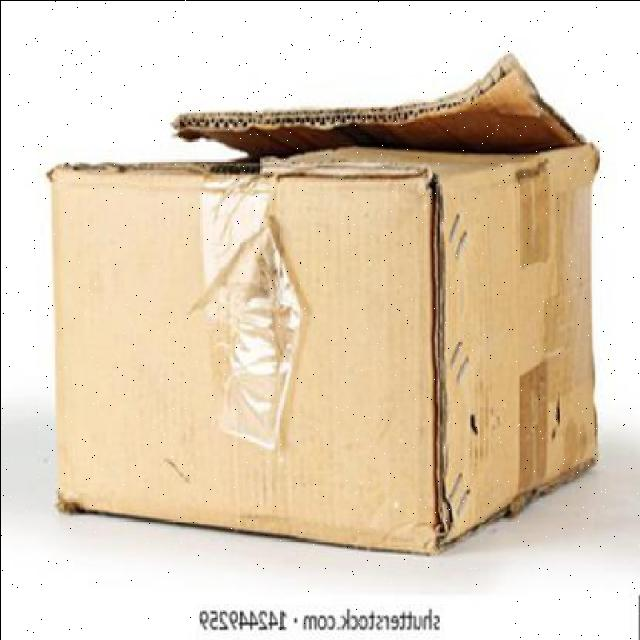defect: (46, 49, 606, 540)
